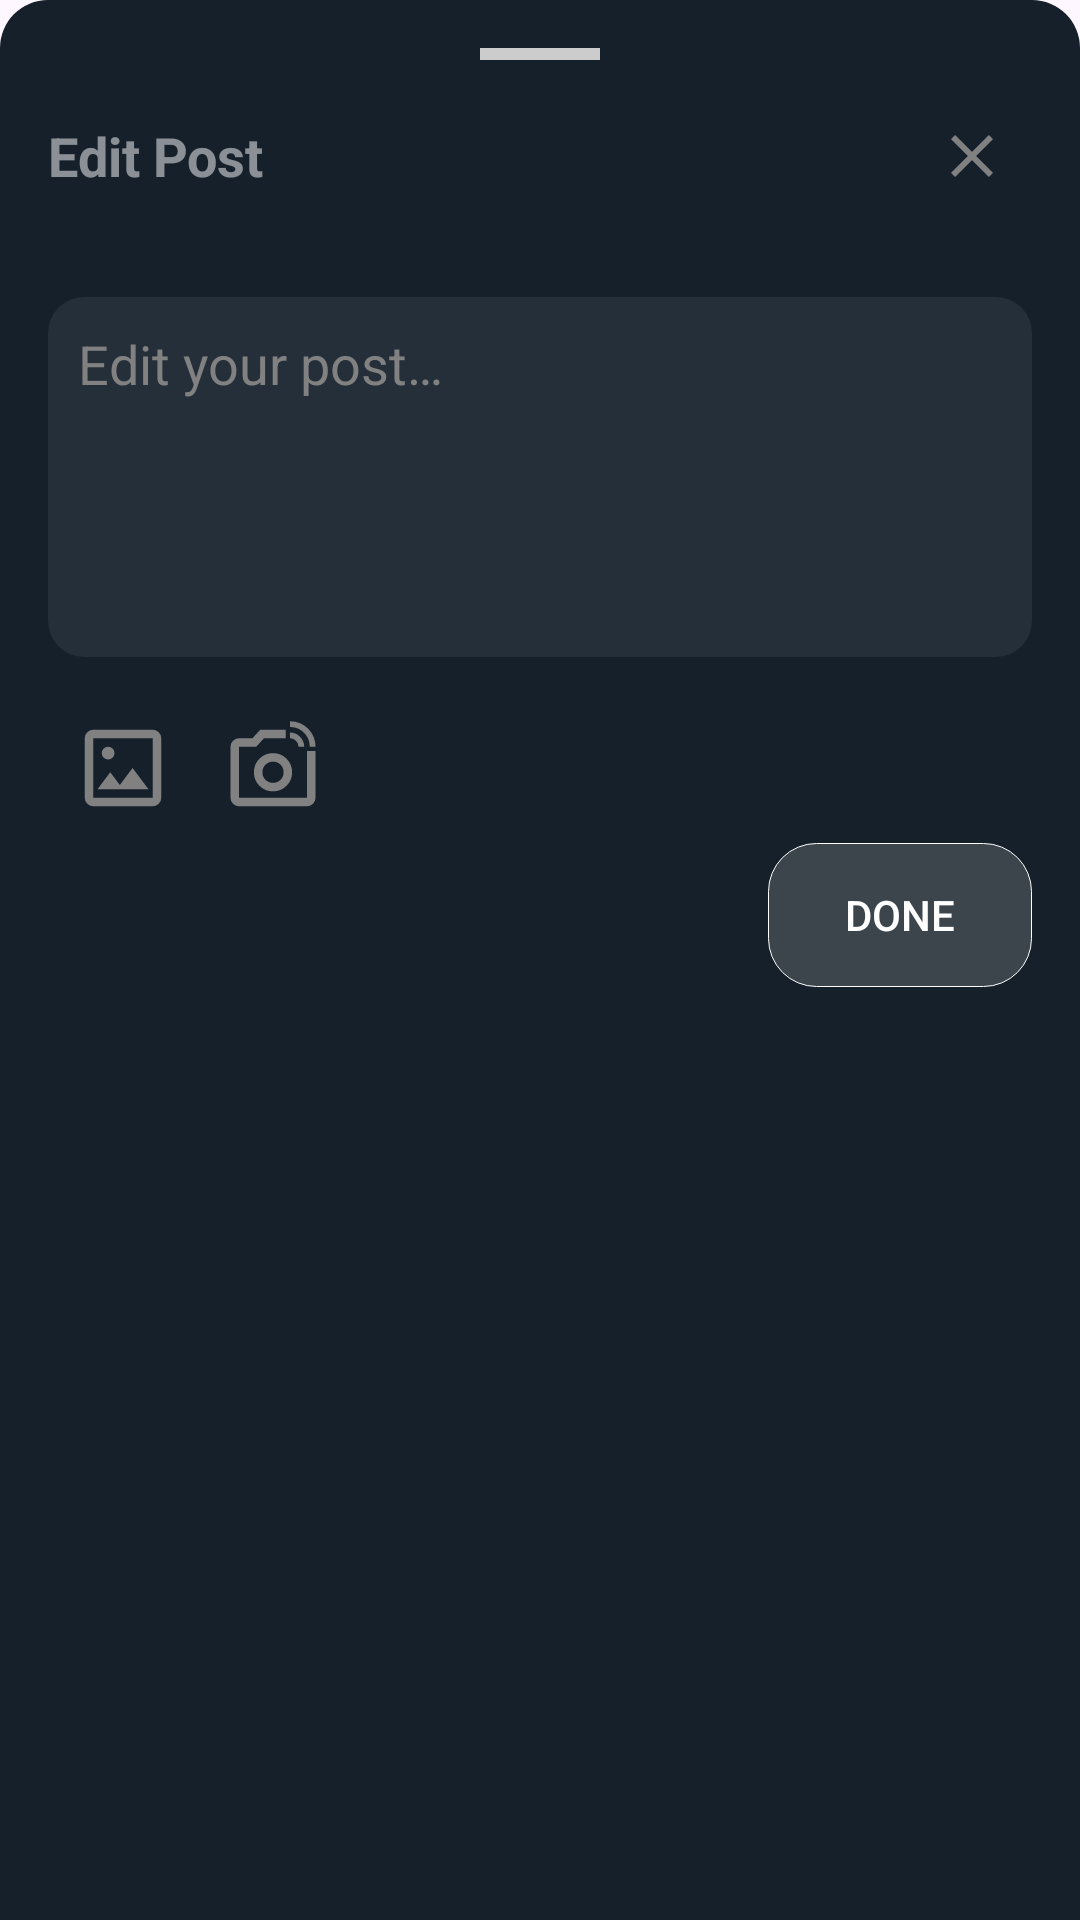

Screen size 1080*1920. Icon name, then its center in pixels as [x,y]:
close: [972,156]
imagesmode: [123,768]
linked camera: [273,764]
